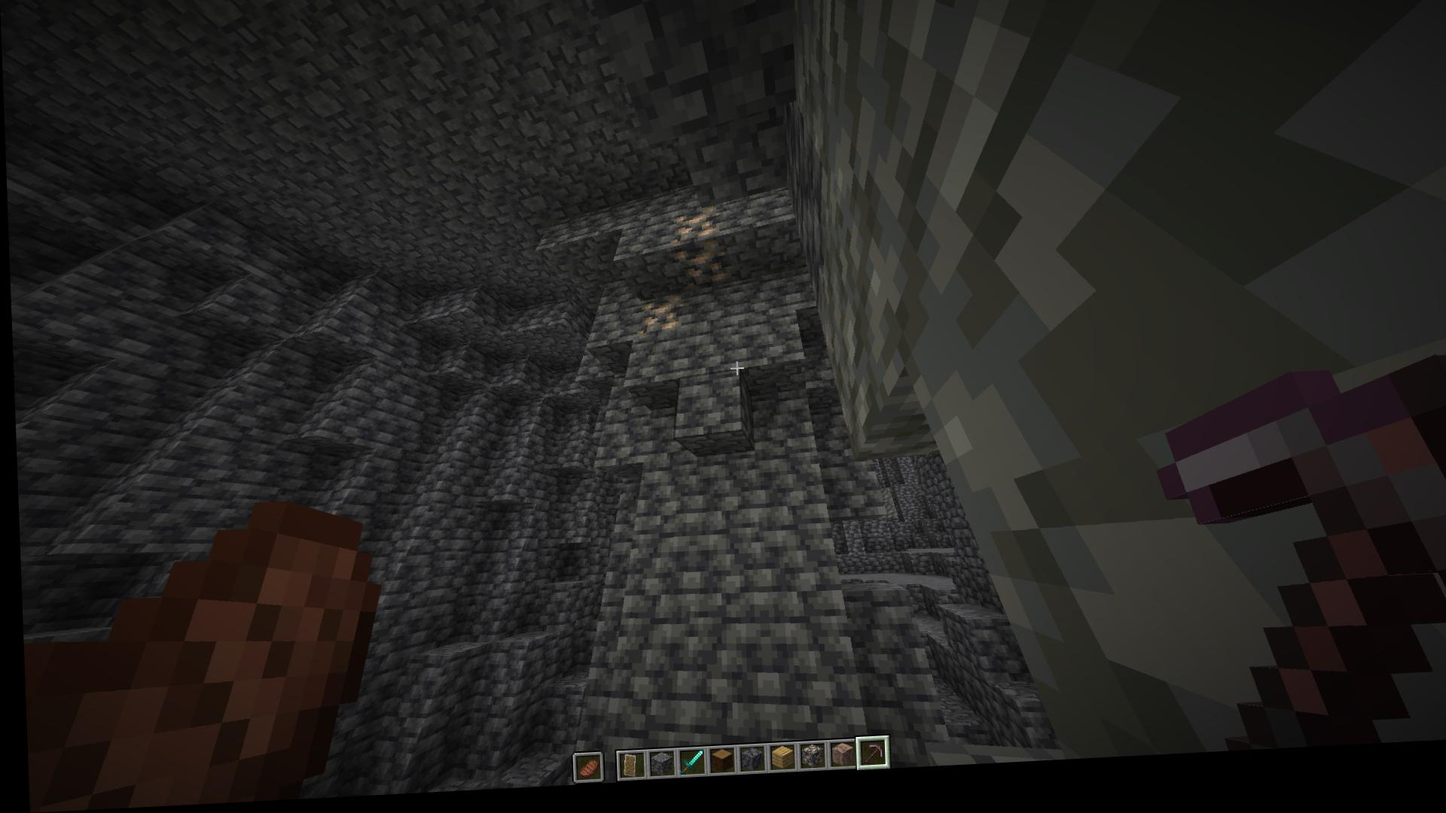iron ore: (670, 246, 728, 291), (631, 299, 684, 341), (672, 215, 719, 246)
